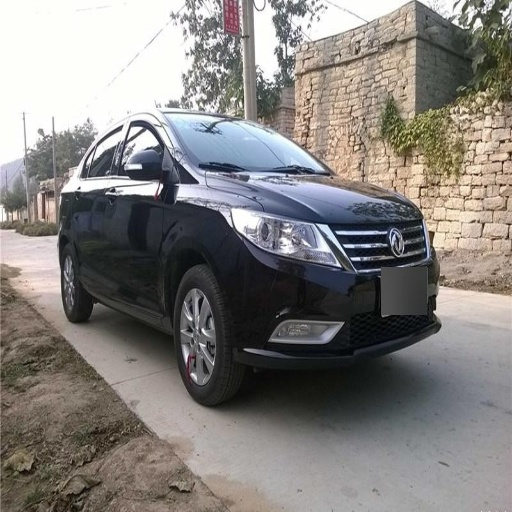front_bumper: (220, 223, 438, 367)
front_right_door: (105, 117, 166, 310)
front_right_light: (229, 200, 338, 265)
